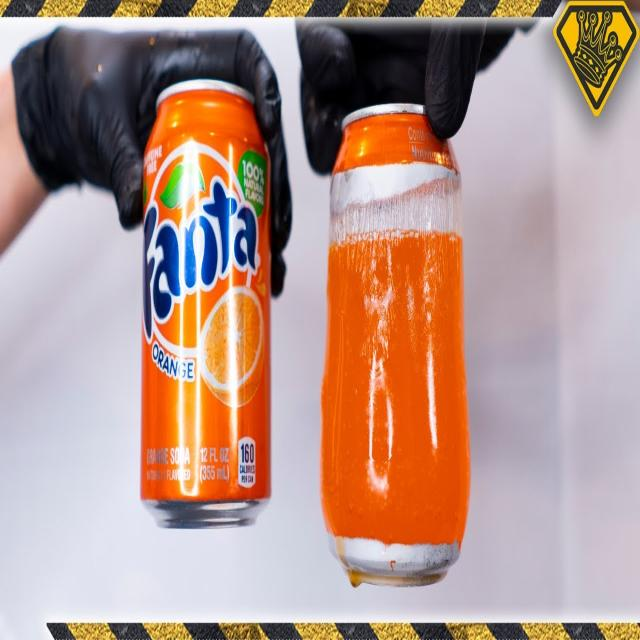can: (320, 105, 472, 587), (138, 79, 270, 543)
